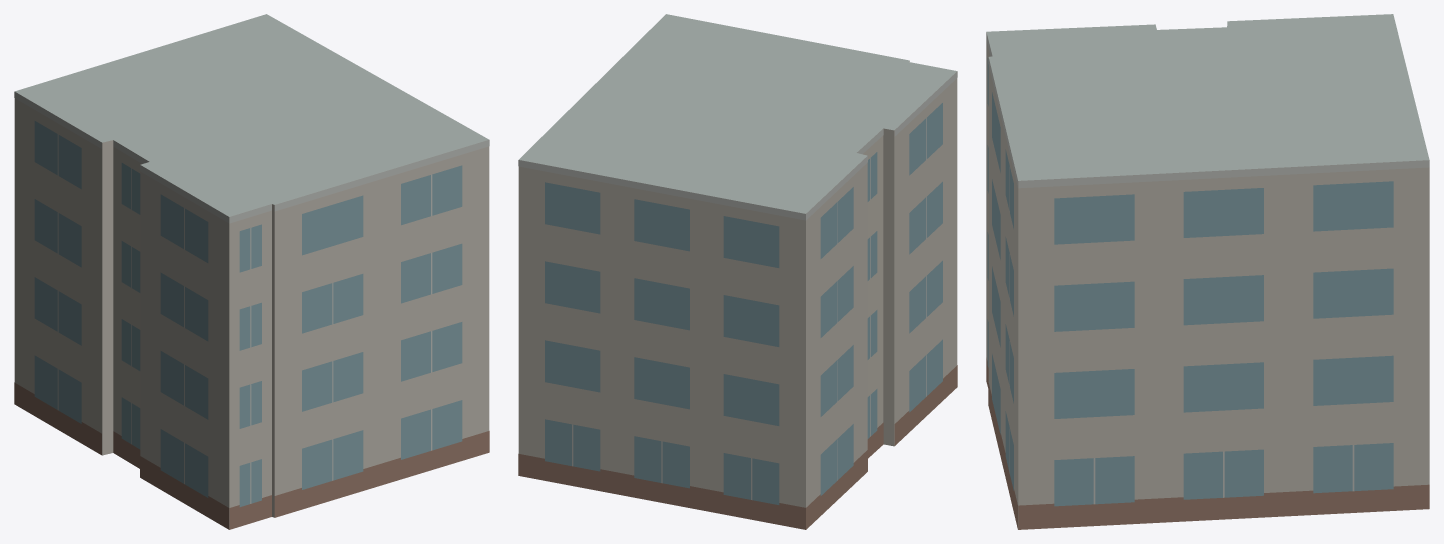
Rendered from survey-upis-32654156.glb.
3 renders of one model, left to right at view 1: azimuth 30°, elevation 25°; view 2: azimuth 150°, elevation 25°; view 3: azimuth 270°, elevation 25°, orthographic. The views are drawn at different scales.
Visible parts, largest first — view 1: survey-upis-32654156.tmp; view 2: survey-upis-32654156.tmp; view 3: survey-upis-32654156.tmp.
Boxes of the visible parts, box(x1,y1,x2,y2) form: survey-upis-32654156.tmp: box(14, 14, 489, 529); survey-upis-32654156.tmp: box(518, 14, 957, 529); survey-upis-32654156.tmp: box(986, 14, 1429, 529).
Bounding box in the file's own units: 11.91 × 11.6 × 13.37.
